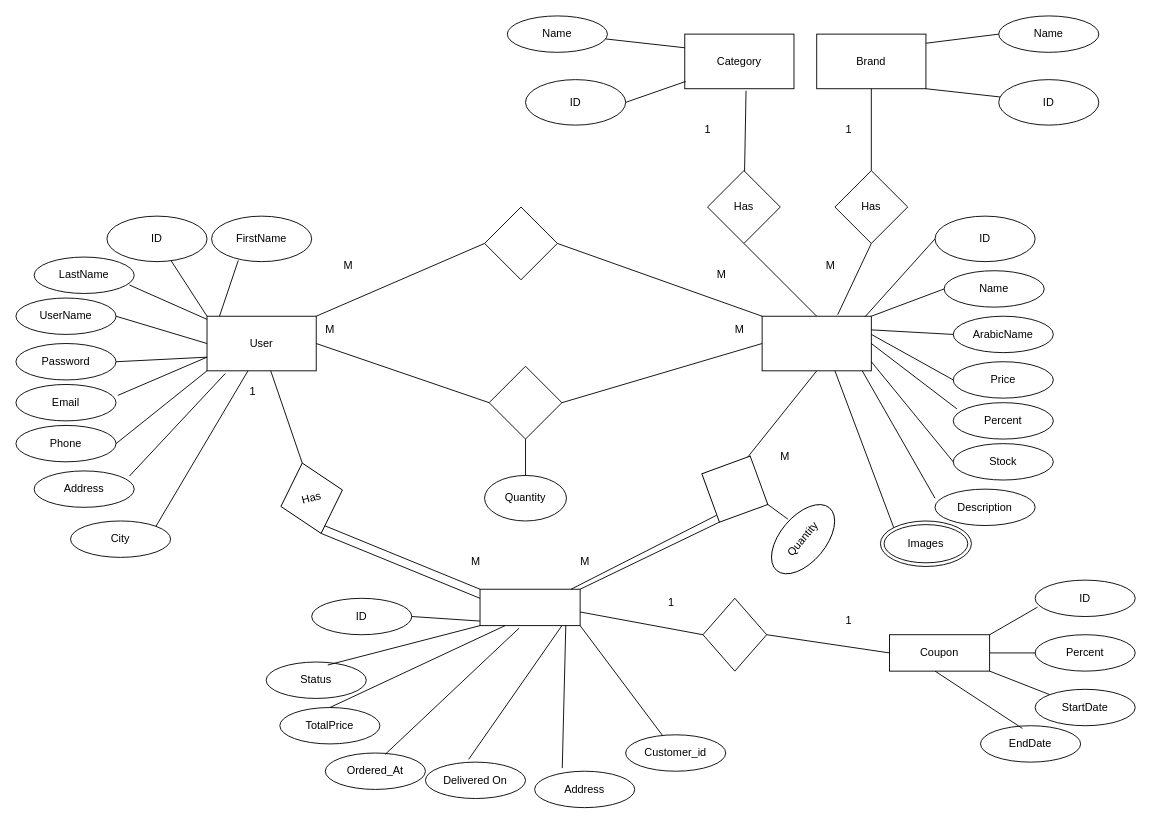
Image size: 1151x824. Some labels were removed from this diagram. The shapes that lost their labels are listed below. From the top down, each one's centre as x and y in pixels, then its label:
At point (520, 243): "Like".
At point (816, 343): "Product".
At point (525, 402): "AddToCart".
At point (734, 489): "Contains".
At point (529, 607): "Order".
At point (734, 634): "Use".
